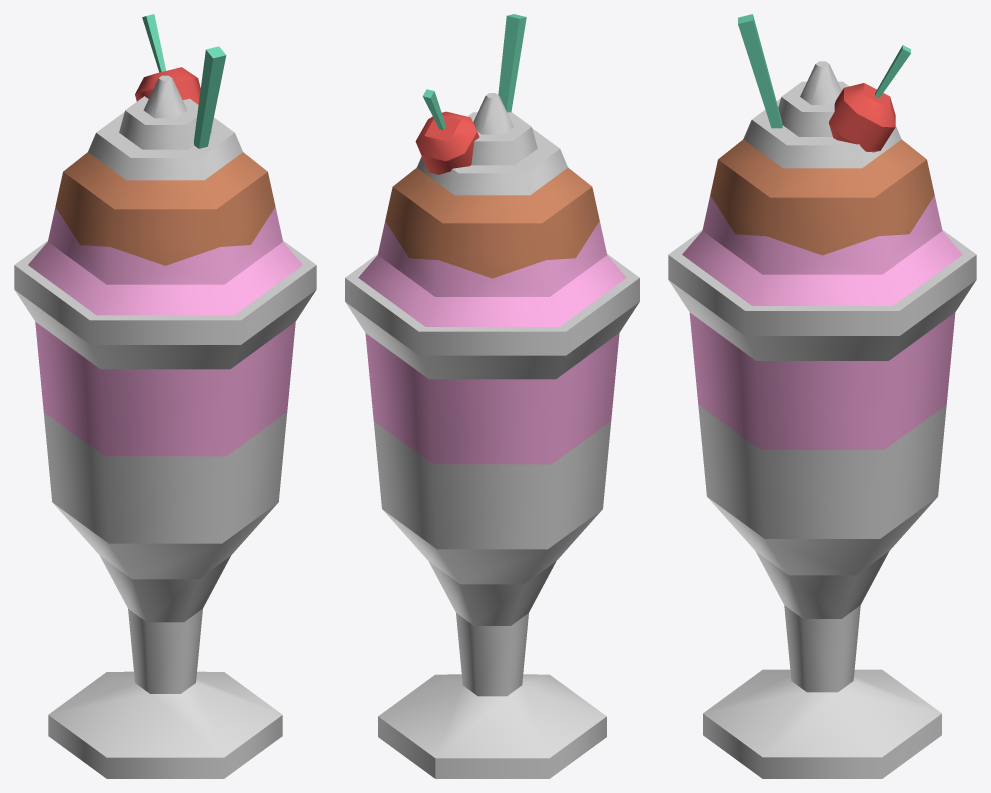
Rendered from Sundae.glb.
3 renders of one model, left to right at view 1: azimuth 30°, elevation 25°; view 2: azimuth 150°, elevation 25°; view 3: azimuth 270°, elevation 25°, orthographic. The views are drawn at different scales.
Visible parts, largest first — view 1: Sundae; view 2: Sundae; view 3: Sundae.
Boxes of the visible parts, x1,y1,x2,y2 form: Sundae: [14, 14, 316, 778]; Sundae: [345, 14, 639, 778]; Sundae: [668, 14, 976, 778].
Bounding box in the file's own units: 0.0982 × 0.2939 × 0.1134.
